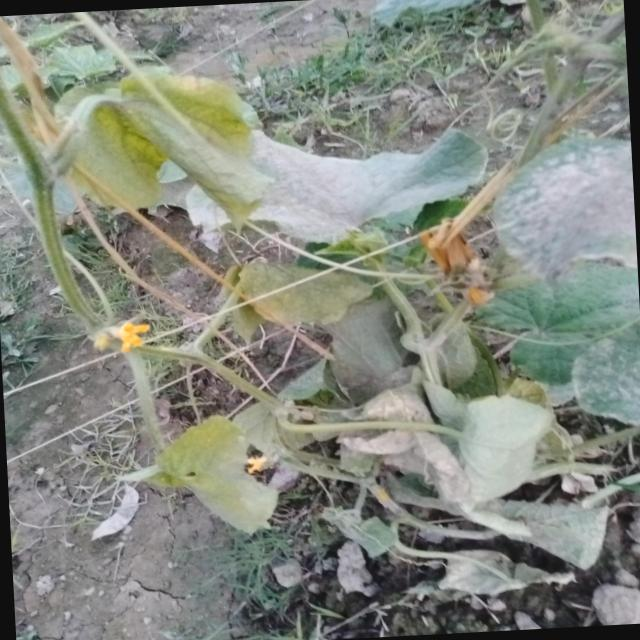cucumber_bacterial: (5, 14, 503, 252), (464, 123, 640, 441), (388, 358, 621, 582), (129, 418, 300, 536), (222, 252, 384, 343)
